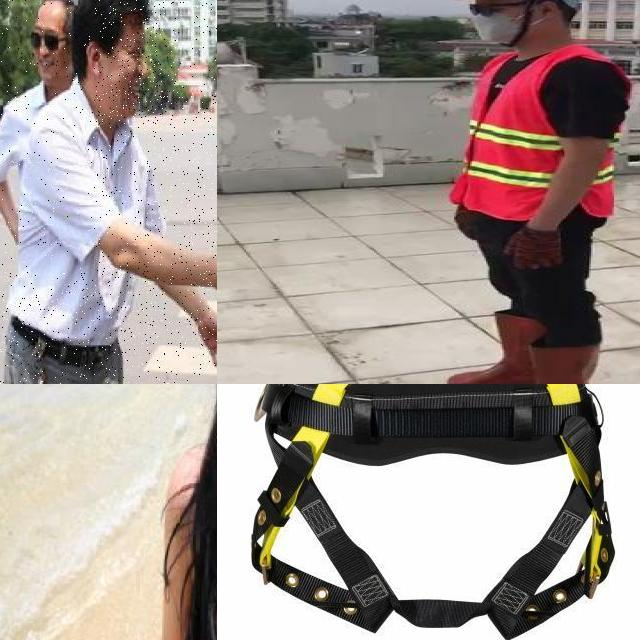Harness: (252, 384, 615, 638)
No_Ear-Protection: (80, 38, 107, 83)
boots: (448, 312, 546, 384), (480, 343, 598, 384)
face_mask: (464, 0, 528, 47)
glasses: (459, 0, 512, 22)
hand_glove: (504, 230, 562, 269)
person: (0, 0, 217, 384), (426, 0, 640, 384), (0, 0, 96, 272), (140, 384, 217, 640)
vest: (454, 55, 628, 222)
